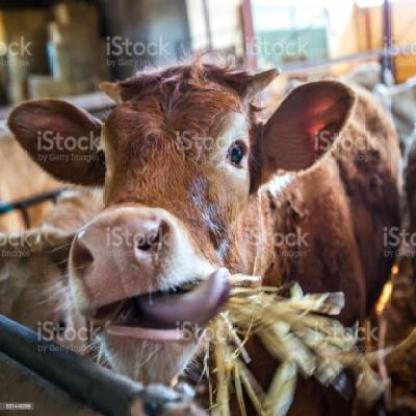lower: (130, 344, 148, 368)
mouth: (70, 209, 226, 384)
upper: (100, 234, 120, 260)
